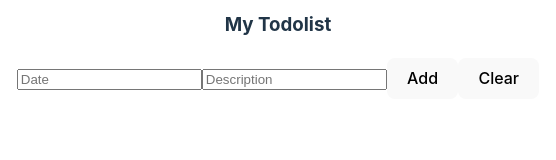
Test: clear todos
Type "Go to coffee" into the field with placeholder "Description" at (294, 80), box x1=202 y1=69 x2=387 y2=90
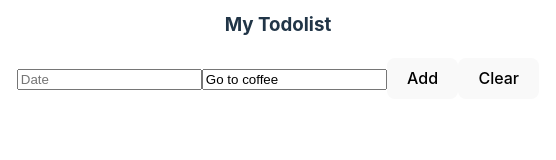
Type "29.01.2021" into the field with placeholder "Date" at (109, 80), box x1=17 y1=69 x2=202 y2=90
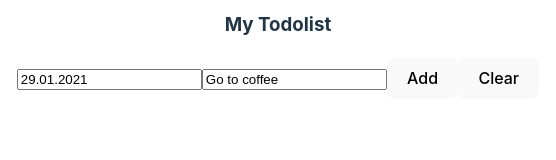
Click the button "Add" at (422, 78), box x1=387 y1=58 x2=458 y2=99
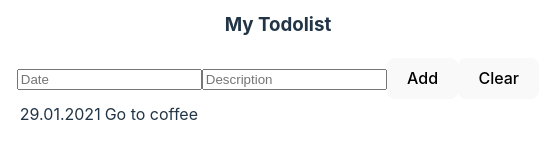
Click the button "Clear" at (499, 78), box x1=458 y1=58 x2=539 y2=99
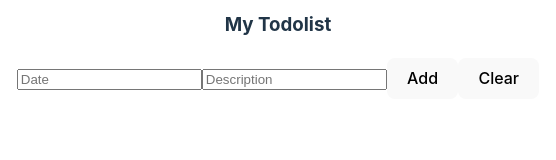
Now the text "Go to coffee" is gone
